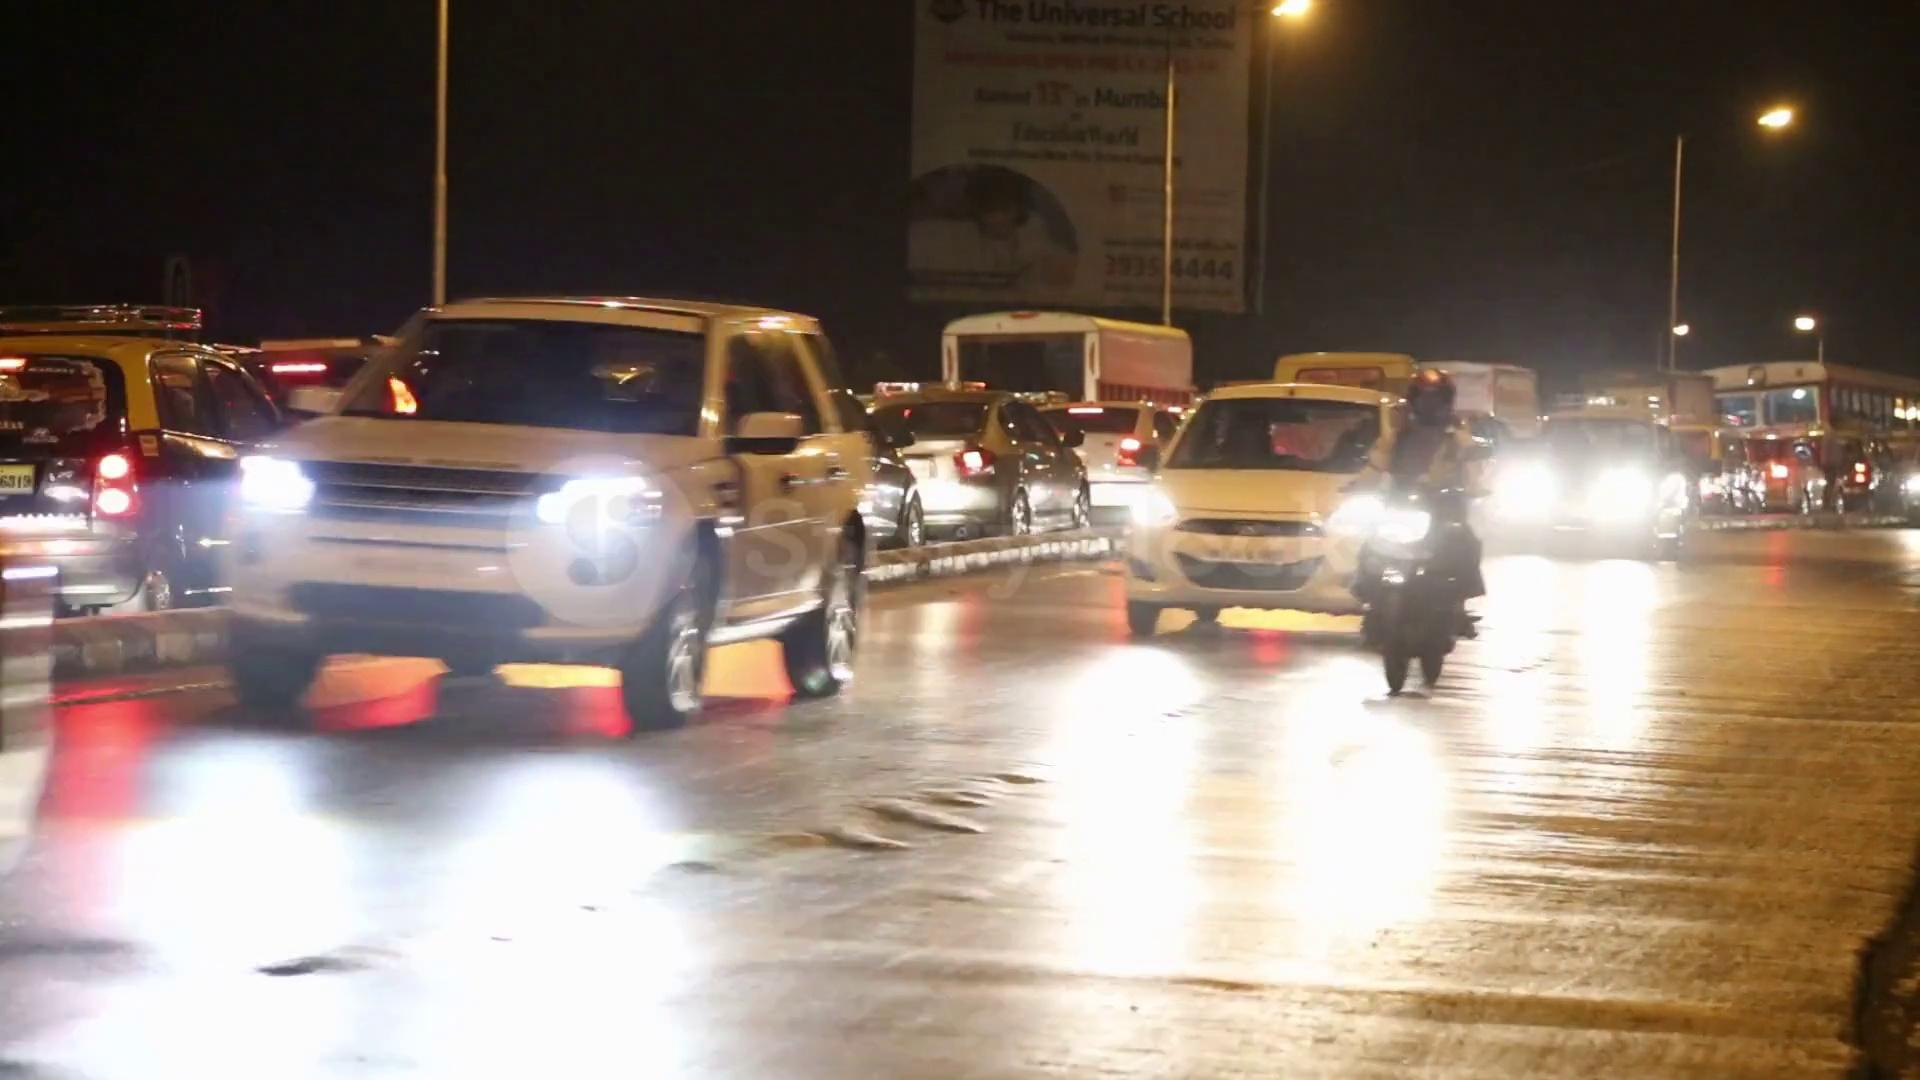rider: (1344, 365, 1495, 692)
with_helmate: (1401, 364, 1463, 431)
